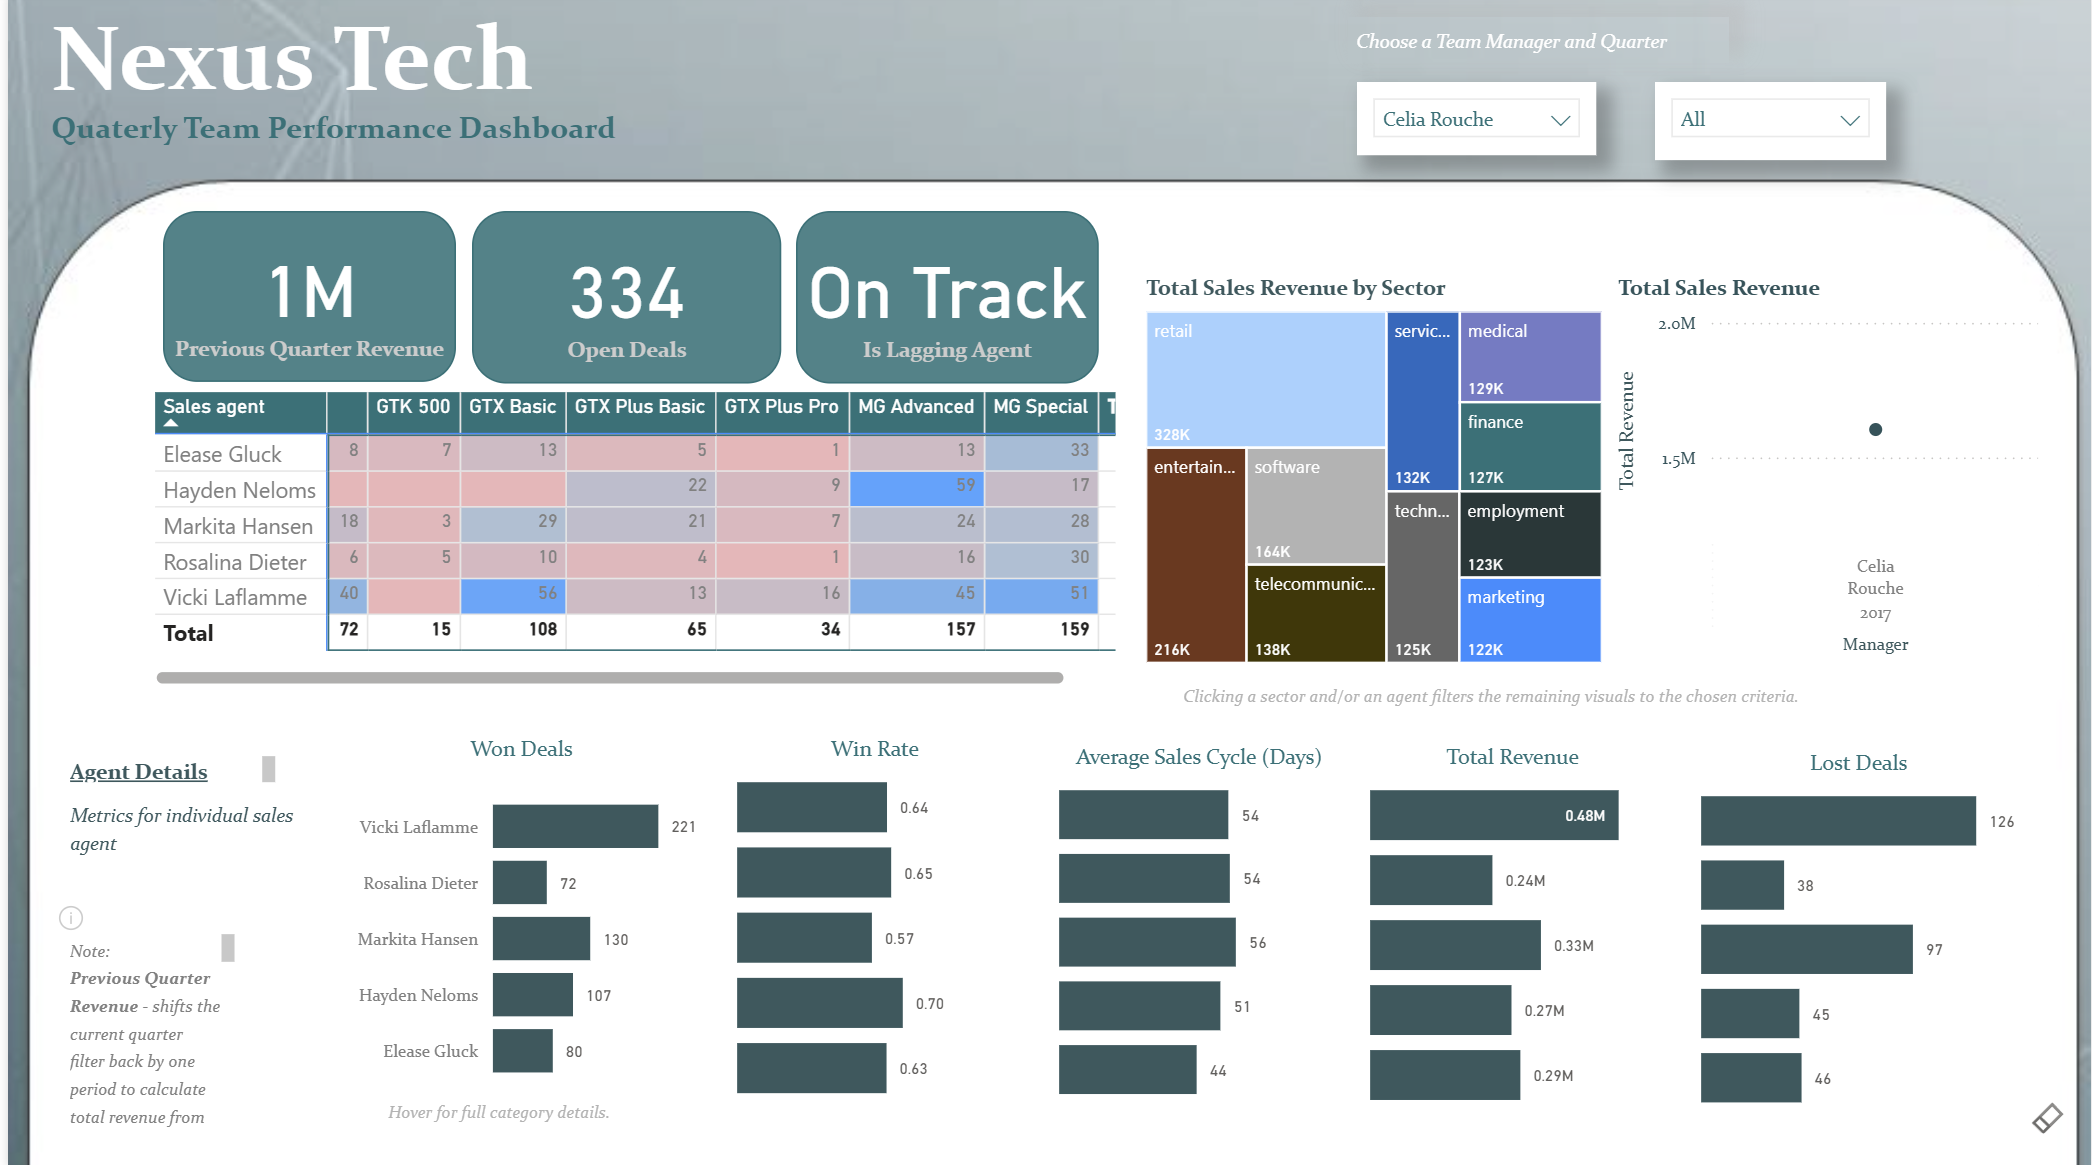

What the dashboard file says about the page in this screenshot:
{"tool":"powerbi","page":{"name":"Page 1 - Team Performance ","canvas":[1280,720],"ordinal":1},"visuals":[{"type":"clusteredBarChart","title":"Won Deals ","fields":{"Category":["sales_teams.Sales agent"],"Y":["Measure table.Won Deals"]},"box":[200.6,454.8,229.3,227],"z":0},{"type":"clusteredBarChart","title":"Win Rate ","fields":{"Category":["sales_teams.Sales agent"],"Y":["Measure table.Win Rate"]},"box":[443.1,454.8,179.3,226.3],"z":1000},{"type":"clusteredBarChart","title":"Average Sales Cycle (Days)","fields":{"Category":["sales_teams.Sales agent"],"Y":["Measure table.Avg Sales Cycle (Days)"]},"box":[640.7,459.2,182.2,221.9],"z":2000},{"type":"clusteredBarChart","title":"Total Revenue ","fields":{"Category":["sales_teams.Sales agent"],"Y":["Measure table.Total Revenue"]},"box":[831.8,459.2,185.2,225.6],"z":3000},{"type":"clusteredBarChart","title":"Lost Deals ","fields":{"Category":["sales_teams.Sales agent"],"Y":["Measure table.Lost Deals"]},"box":[1035.3,462.9,203.5,223.4],"z":4000},{"type":"textbox","box":[33.2,462.6,136.4,26.4],"z":5000},{"type":"textbox","box":[33.2,489,148.1,64.5],"z":6000},{"type":"treemap","title":"Total Sales Revenue by Sector","fields":{"Group":["accounts.sector"],"Values":["Measure table.Total Revenue"]},"box":[694.2,171.4,290,243.9],"z":7000},{"type":"slicer","title":"Choose a Team Manager","fields":{"Values":["sales_teams.Manager"]},"box":[828.8,53.6,147,44.8],"z":8000},{"type":"slicer","fields":{"Values":["Calendar.Quarter"]},"box":[1011.8,53.6,141.8,47.8],"z":9000},{"type":"pivotTable","fields":{"Rows":["sales_teams.Sales agent"],"Columns":["products.product"],"Values":["Measure table.Won Deal Count"]},"box":[85.4,239,599.6,190.4],"z":10000},{"type":"card","fields":{"Values":["Measure table.Revenue Prior Quarter"]},"box":[95.2,132.7,180,105.1],"z":11000},{"type":"card","fields":{"Values":["Measure table.Open Deals"]},"box":[285.1,132.7,190.4,106.3],"z":12000},{"type":"textbox","box":[21.5,0,333.1,82.6],"z":13000},{"type":"textbox","box":[21.5,65.3,393.4,34.7],"z":14000},{"type":"textbox","box":[823.1,13.2,233.9,28.1],"z":15000},{"type":"textbox","box":[33.2,571.9,110.6,129.6],"z":16000},{"type":"actionButton","box":[21.3,549.6,44.8,34.5],"z":17000},{"type":"textbox","box":[716.9,415.3,446,60.8],"z":18000},{"type":"textbox","box":[228.5,670.9,173.2,33.2],"z":19000},{"type":"actionButton","box":[1238.9,673.1,27.9,33.1],"z":20000},{"type":"card","fields":{"Values":["Measure table.Is Lagging Agent"]},"box":[484.1,132.7,186.1,106.3],"z":21000},{"type":"lineChart","title":"Total Sales Revenue","fields":{"Y":["Measure Table.Total Revenue"],"Category":["Calendar.Date.Variation.Date Hierarchy.Year","sales_teams.Manager"]},"box":[984.2,171.4,268.5,239],"z":22000}]}

Visuals, with their boxes in screenshot pixels (x1, y1, x2, y2), scaled from the page's 1280x720 canvas onto the 2092x1165 screenshot:
"Won Deals " clusteredBarChart: [x1=328, y1=736, x2=703, y2=1103]
"Win Rate " clusteredBarChart: [x1=724, y1=736, x2=1017, y2=1102]
"Average Sales Cycle (Days)" clusteredBarChart: [x1=1047, y1=743, x2=1345, y2=1102]
"Total Revenue " clusteredBarChart: [x1=1359, y1=743, x2=1662, y2=1108]
"Lost Deals " clusteredBarChart: [x1=1692, y1=749, x2=2025, y2=1110]
textbox: [x1=54, y1=749, x2=277, y2=791]
textbox: [x1=54, y1=791, x2=296, y2=896]
"Total Sales Revenue by Sector" treemap: [x1=1135, y1=277, x2=1609, y2=672]
"Choose a Team Manager" slicer: [x1=1355, y1=87, x2=1595, y2=159]
slicer - Calendar.Quarter: [x1=1654, y1=87, x2=1885, y2=164]
pivotTable - sales_teams.Sales agent x products.product: [x1=140, y1=387, x2=1120, y2=695]
card - Measure table.Revenue Prior Quarter: [x1=156, y1=215, x2=450, y2=385]
card - Measure table.Open Deals: [x1=466, y1=215, x2=777, y2=387]
textbox: [x1=35, y1=0, x2=580, y2=134]
textbox: [x1=35, y1=106, x2=678, y2=162]
textbox: [x1=1345, y1=21, x2=1728, y2=67]
textbox: [x1=54, y1=925, x2=235, y2=1135]
actionButton: [x1=35, y1=889, x2=108, y2=945]
textbox: [x1=1172, y1=672, x2=1901, y2=770]
textbox: [x1=373, y1=1086, x2=657, y2=1139]
actionButton: [x1=2025, y1=1089, x2=2070, y2=1143]
card - Measure table.Is Lagging Agent: [x1=791, y1=215, x2=1095, y2=387]
"Total Sales Revenue" lineChart: [x1=1609, y1=277, x2=2047, y2=664]
